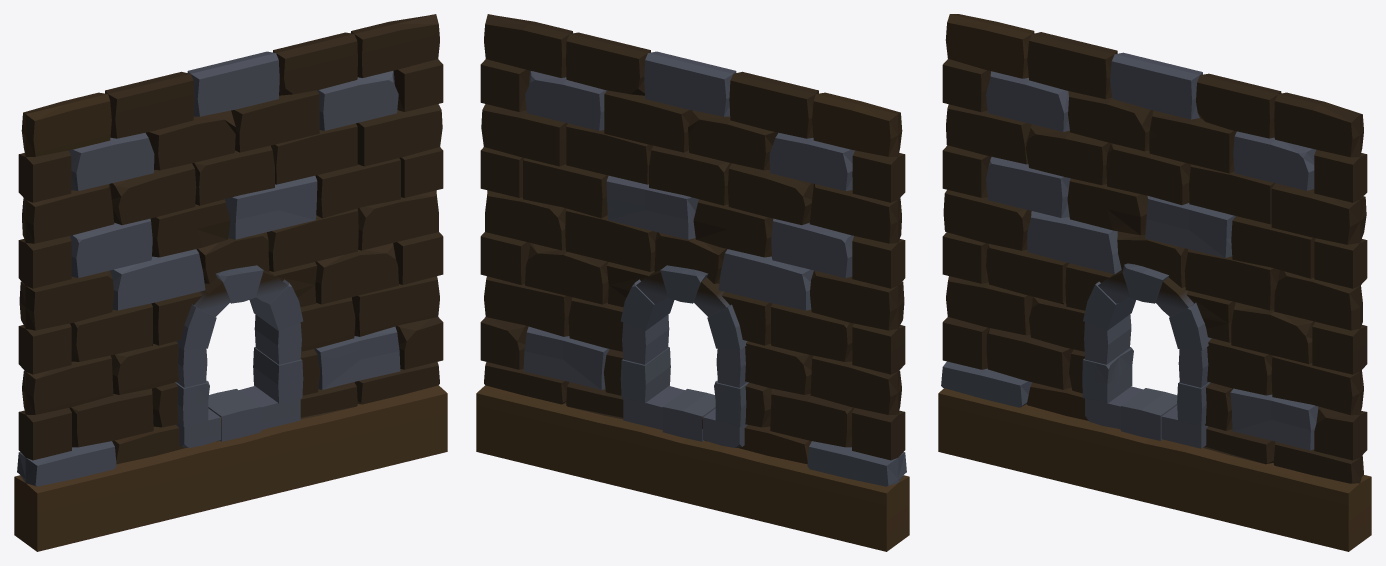
File: Wall_14.fbx
3 views of the same model, side by side, from view 1: azimuth 30°, elevation 25°; view 2: azimuth 150°, elevation 25°; view 3: azimuth 330°, elevation 25° (orthographic).
Parts seen in each view (by area): view 1: Wall_14; view 2: Wall_14; view 3: Wall_14.
Boxes of the visible parts, x1,y1,x2,y2 form: Wall_14: [14, 14, 447, 551]; Wall_14: [476, 14, 909, 551]; Wall_14: [938, 14, 1371, 551].
Bounding box in the file's own units: 4 × 4 × 0.4276.
